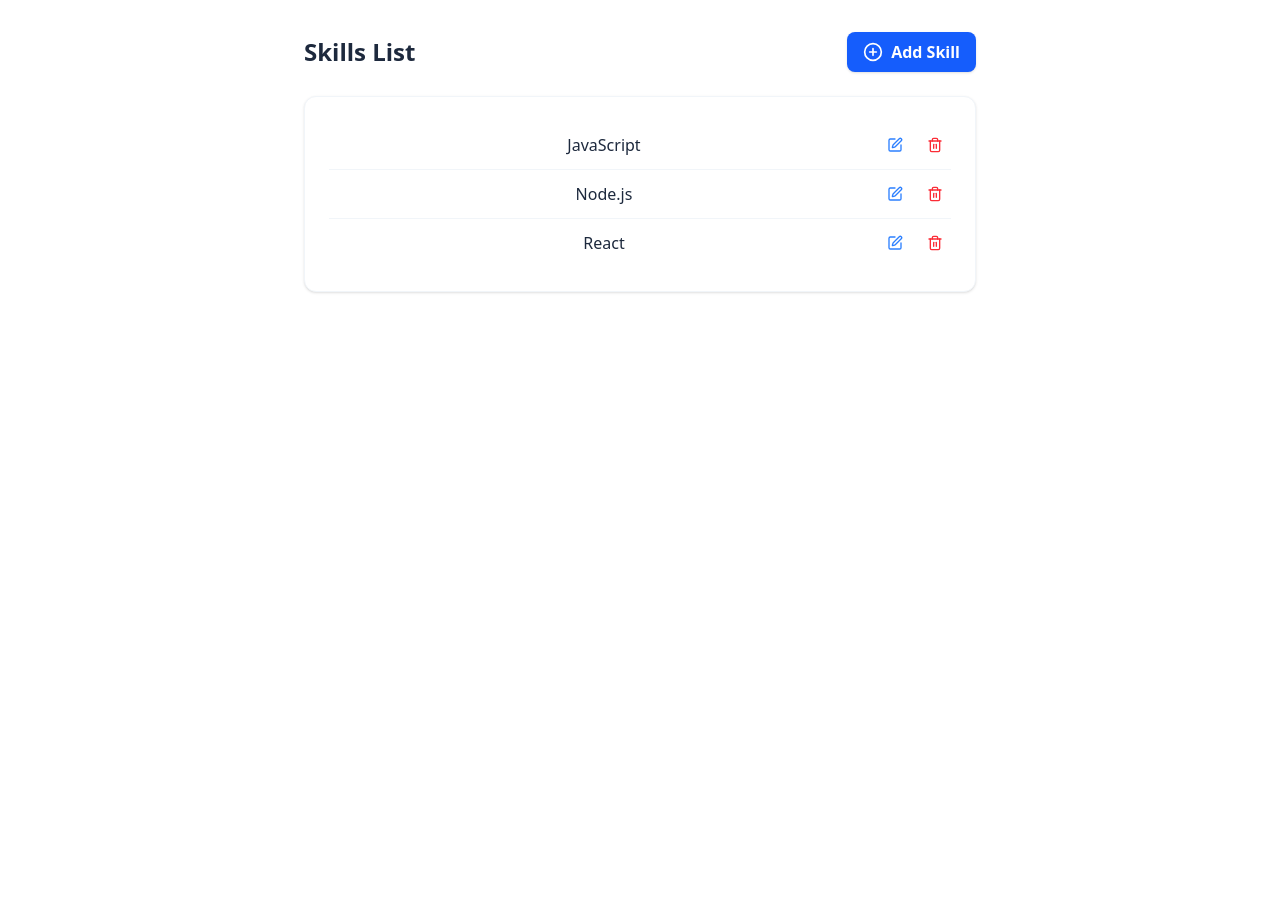
Test case: SkillSelector › should close edit modal when cancel is clicked
Click the button titled "Edit skill" in the row of "JavaScript" at (895, 145), box [879,133,911,157]
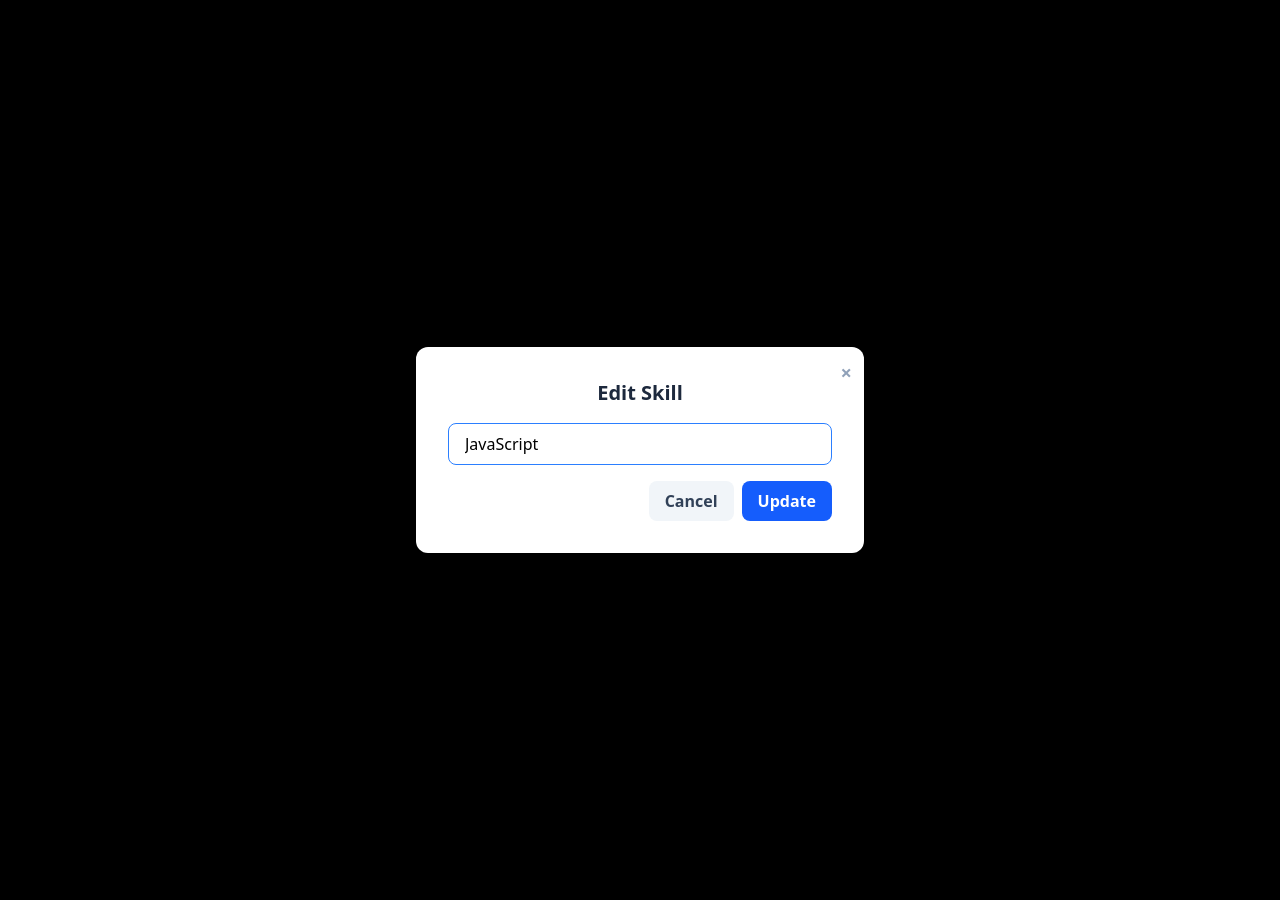
# Close modal
Click the button "Cancel" at (691, 501), box [649,481,734,521]
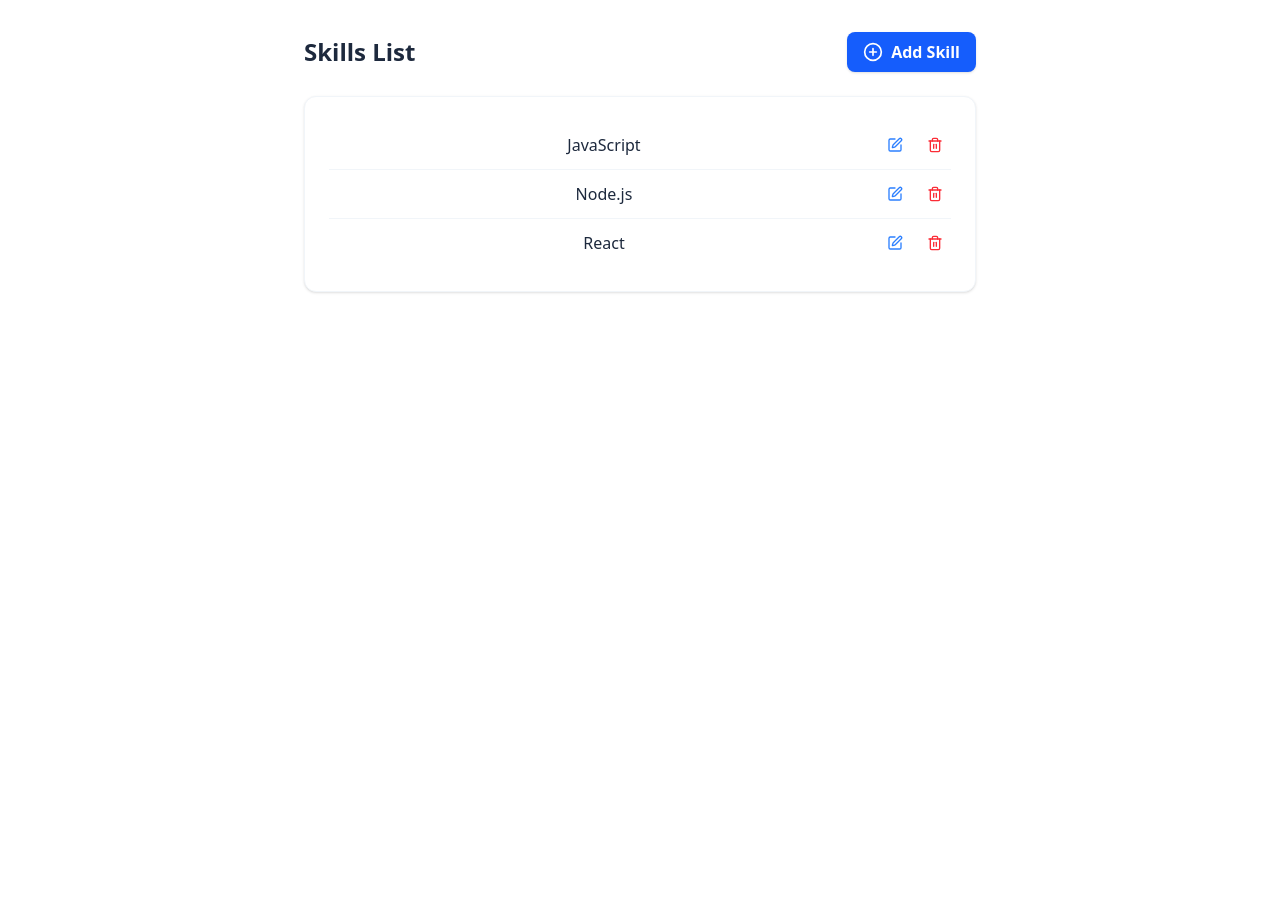
Now the heading "Edit Skill" is gone
